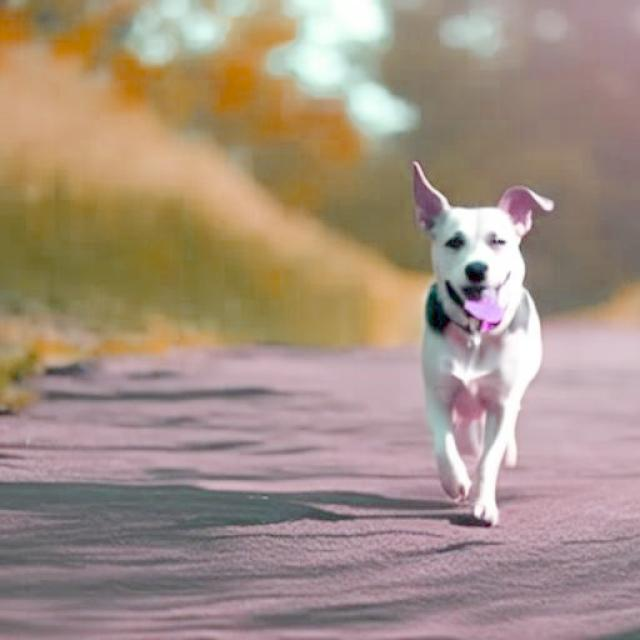Dog: (410, 160, 556, 524)
